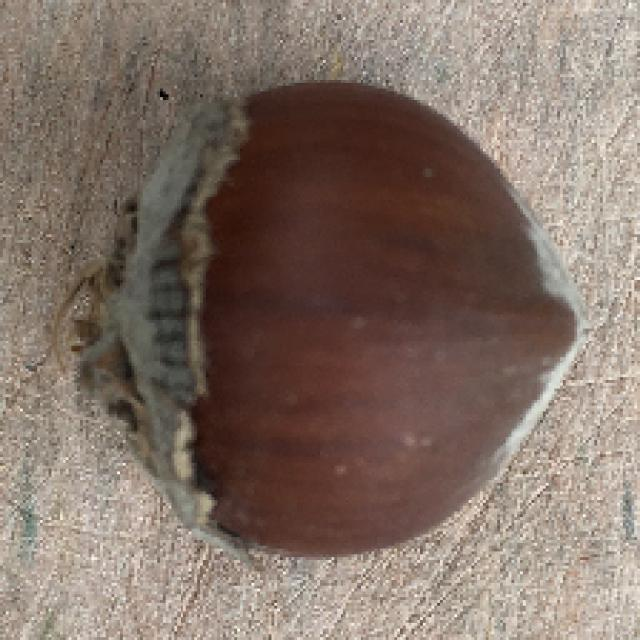damagedHazelnut: (63, 80, 590, 564)
